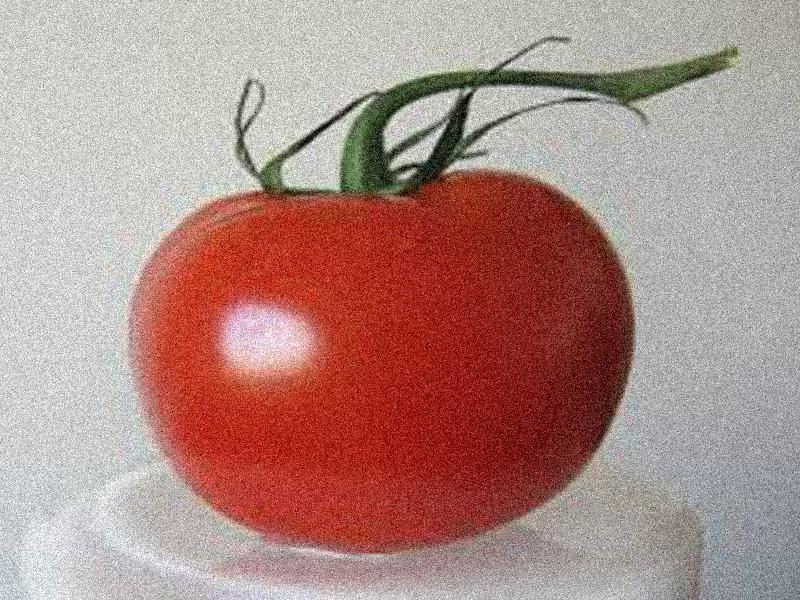Tomato: (129, 170, 635, 551)
